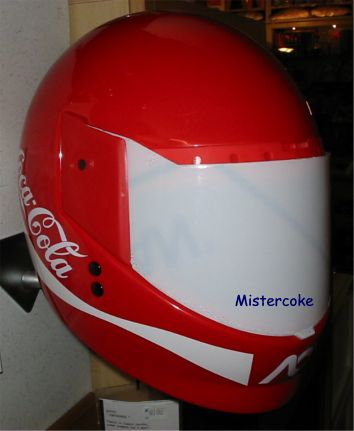helmet: (22, 36, 322, 376)
